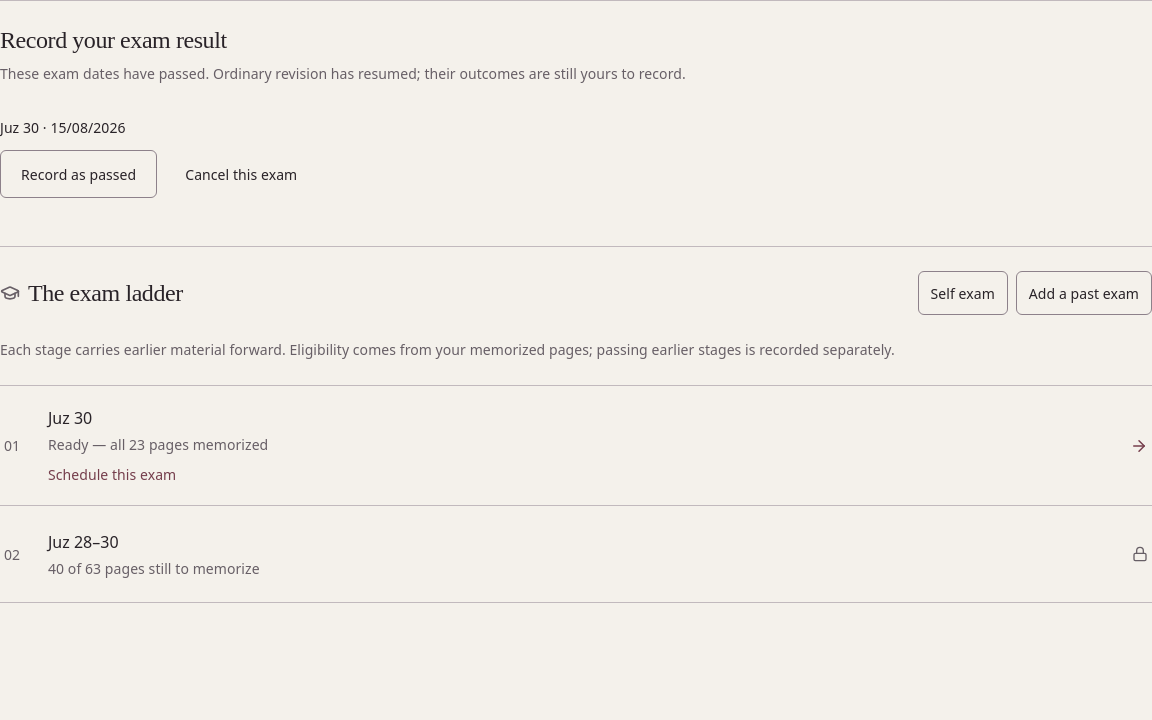
Test: the ladder › keeps an expired scheduled exam actionable and preserves it after a failed outcome write
Click the button "Record as passed" at (79, 174), box [0,150,157,198]
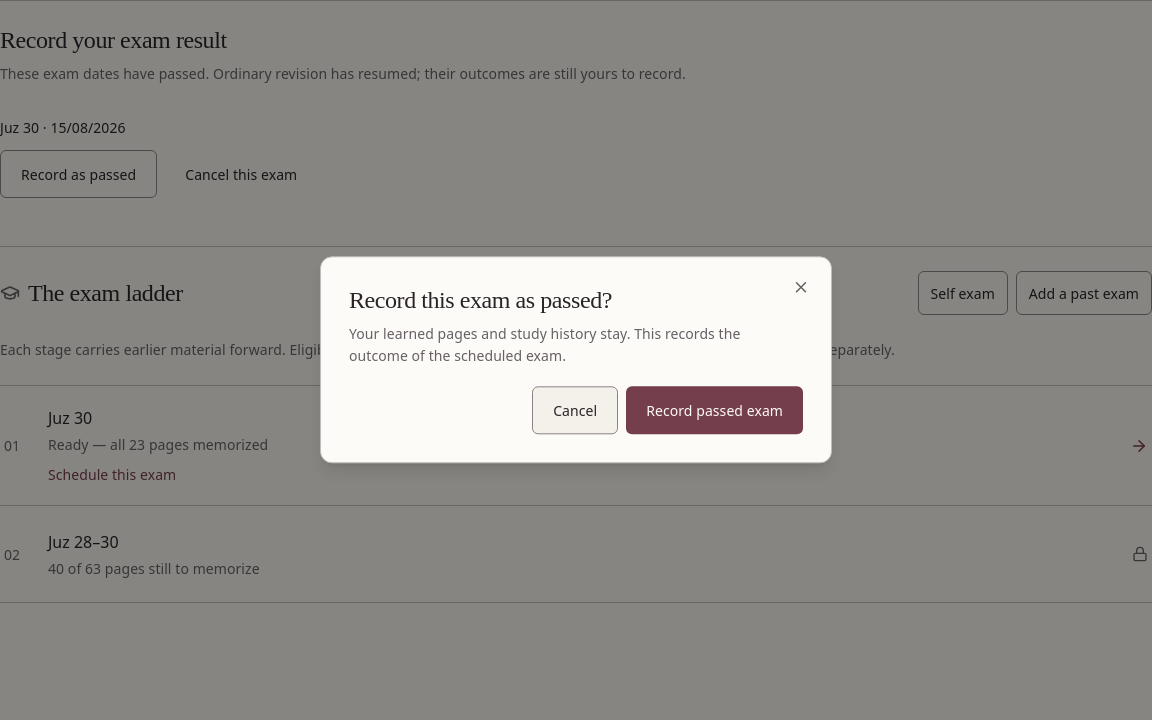
Click the button "Record passed exam" at (715, 411), box [626,387,803,435]
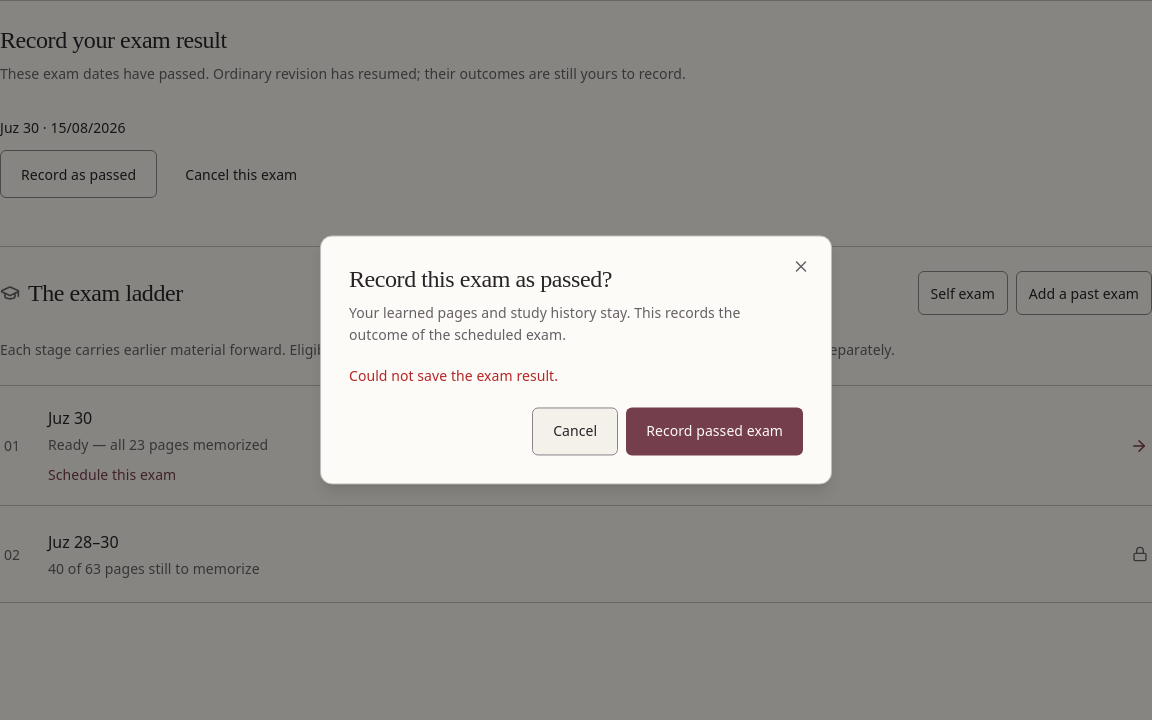
Now the dialog is shown, box [320,236,832,485]
Now the message reads "Could not save the exam result.", box [349,367,558,386]
Click the button "Record passed exam" at (715, 432), box [626,408,803,456]
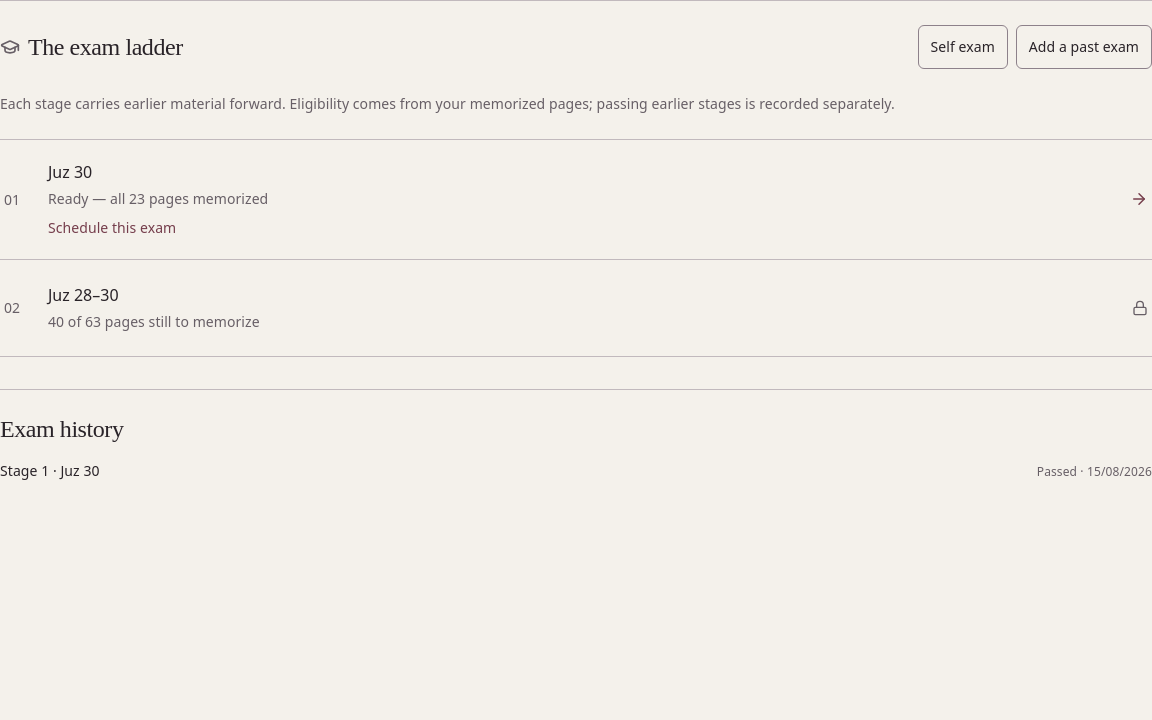
Now the dialog is gone
Now the heading "Exam history" is shown, box [0,416,124,442]
Now the button "Record as passed" is gone
